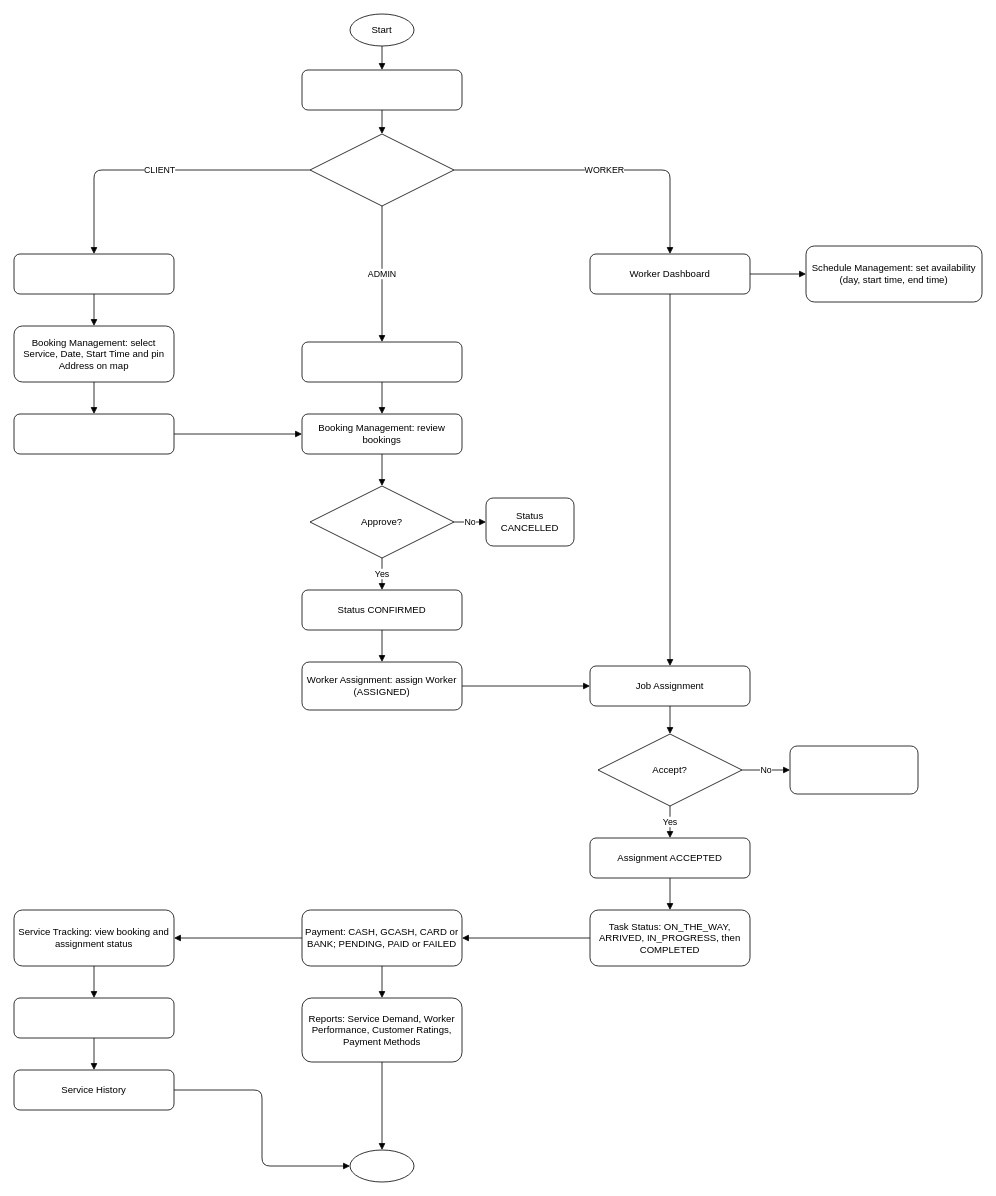
Some shapes in this 996 by 1196 pixel diagram are drawn without their labels. Here are the shapes that lost their labels. From the top down, the centre of each, then its label:
(381,89): Login / Register
(381,169): Role?
(93,273): Client Dashboard
(381,361): Admin Dashboard
(93,433): Booking saved with status PENDING
(853,769): Assignment DECLINED
(93,1017): Submit Review: rating and comment
(381,1165): End
